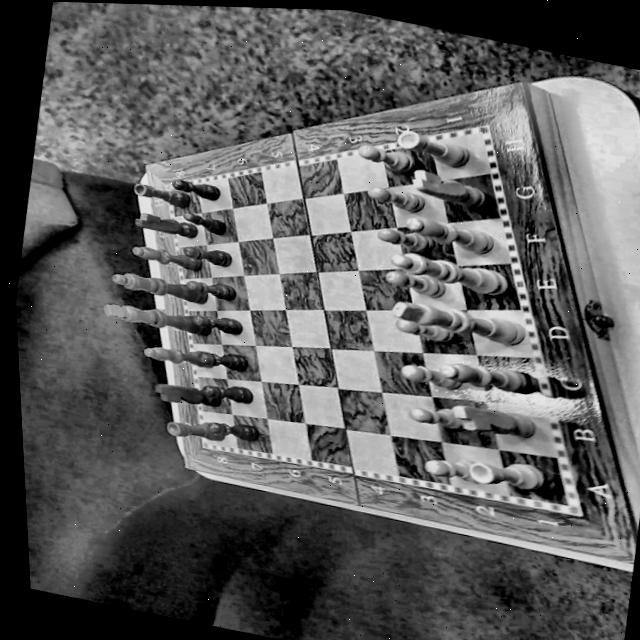chessboard: (170, 134, 562, 504)
